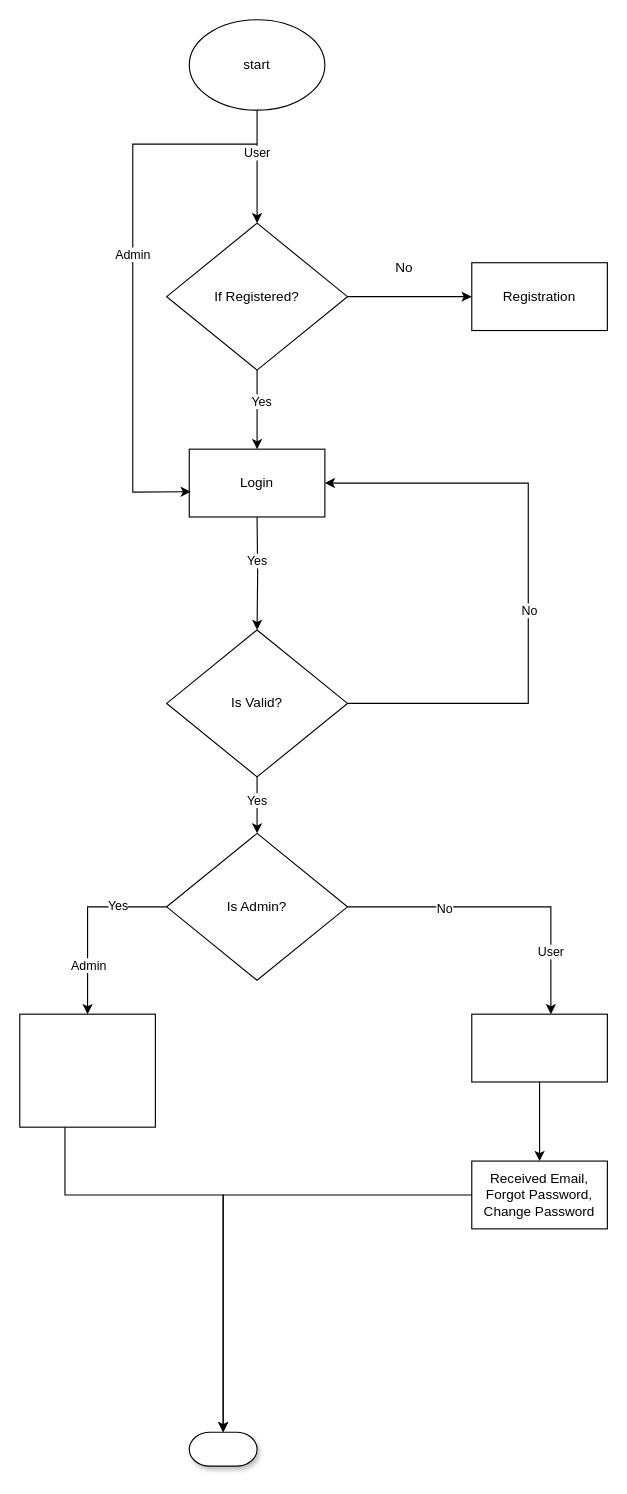
This 627x1494 diagram has some shape labels left out. Each missing label, with the centre of its shape:
"CRUD: Event Booking, Booking Section, and other" goes at (x=87, y=1070).
"End" goes at (x=224, y=1450).
"Search Event, Add Event to Wishlist and Do Booking" goes at (x=539, y=1047).
